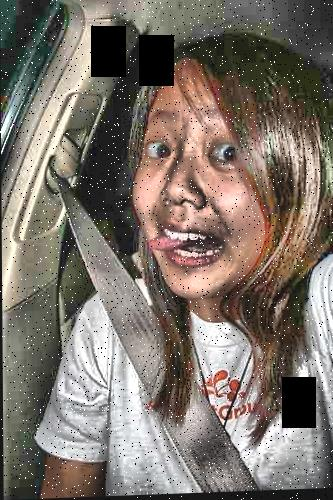seatbelt: (45, 143, 265, 488)
